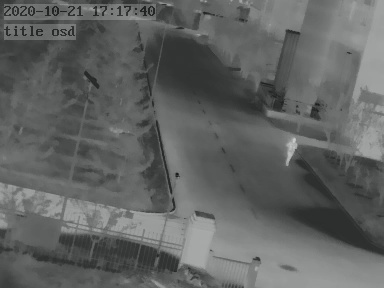person: (282, 137, 298, 165)
